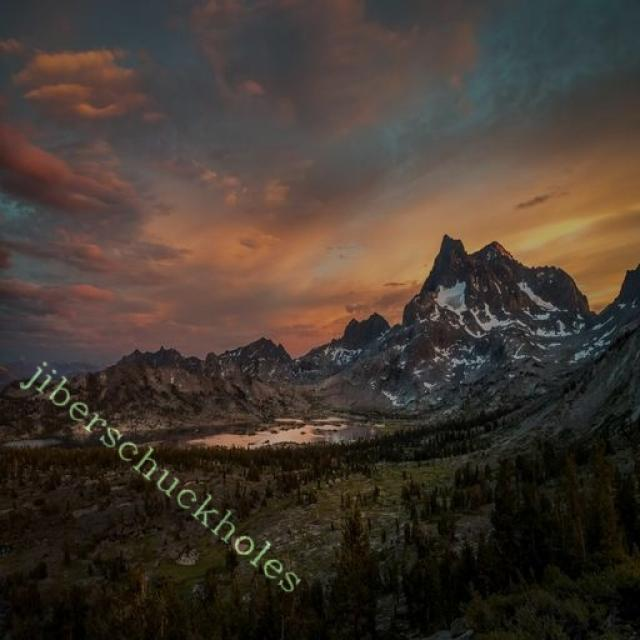watermark: (15, 350, 318, 602)
